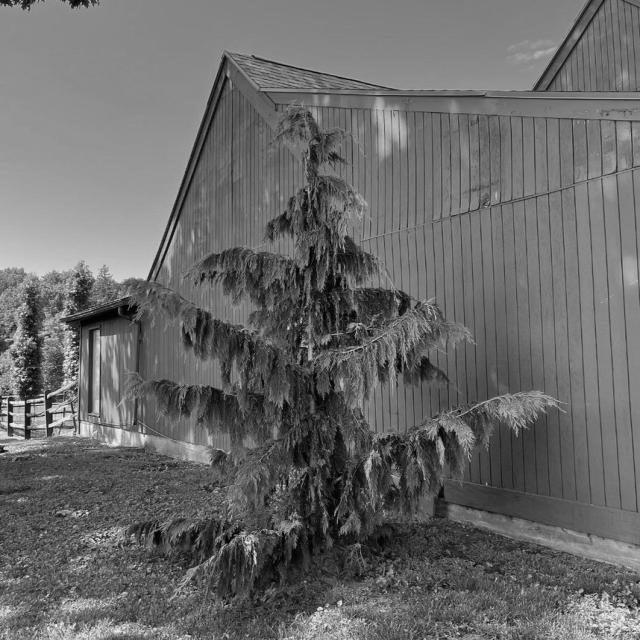Cupressus nootkatensis: (114, 102, 552, 612)
